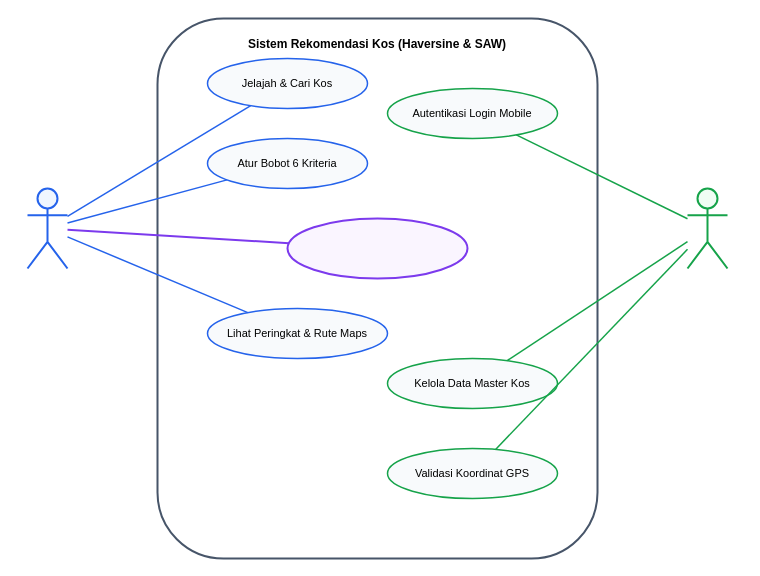
The diagram is 760 pixels wide and 576 high, and some of its shapes have lost their labels. Each missing label, with the centre of its shape:
"Administrator" goes at (x=707, y=228).
"Hitung Rekomendasi (Haversine & SAW)" goes at (x=377, y=248).
"Mahasiswa" goes at (x=47, y=228).
